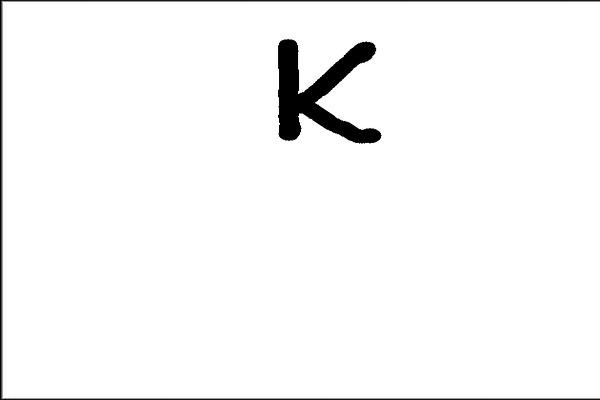K: (268, 31, 391, 151)
